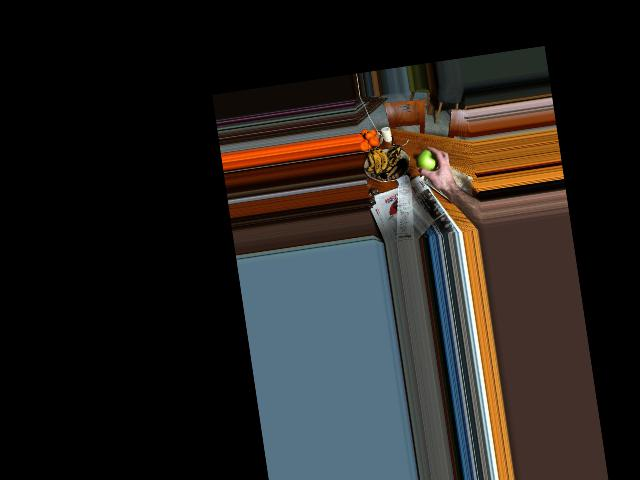apple: (415, 147, 442, 178)
